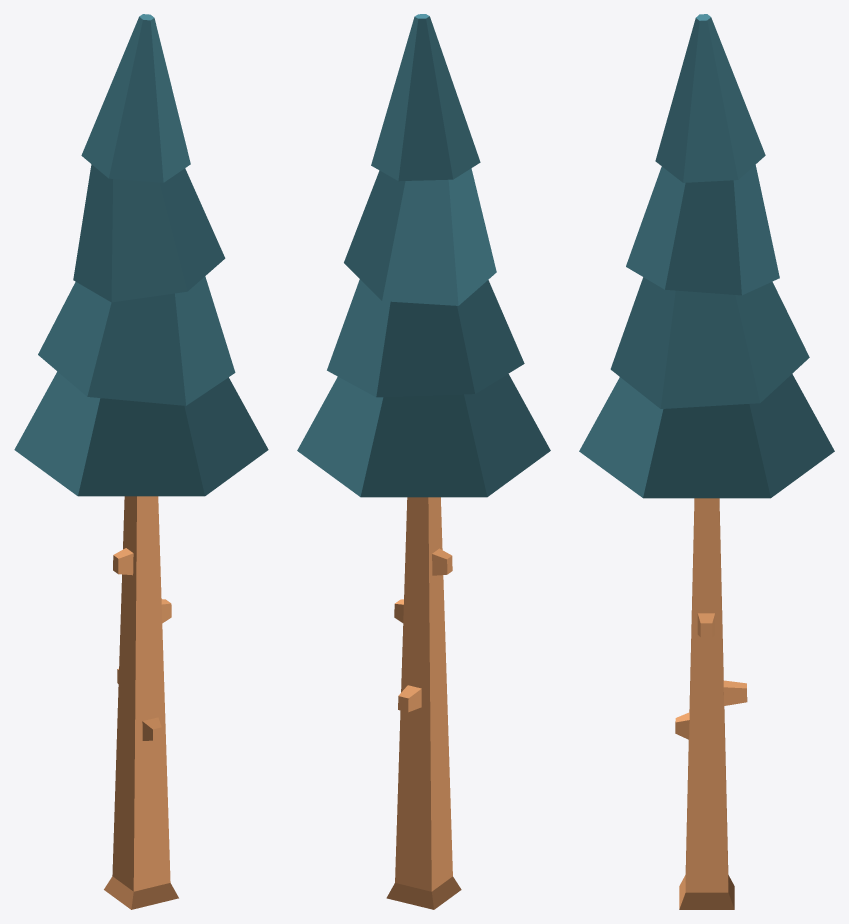
File: tree_pine_tall_detailed.obj
The picture shows the model from 3 angles, left to right: view 1: azimuth 30°, elevation 25°; view 2: azimuth 150°, elevation 25°; view 3: azimuth 270°, elevation 25°; orthographic projection.
Visible parts, largest first — view 1: tree_pine_tall_detailed; view 2: tree_pine_tall_detailed; view 3: tree_pine_tall_detailed.
Part boxes in pixels (x1,y1,x2,y2): tree_pine_tall_detailed: (14, 14, 268, 909); tree_pine_tall_detailed: (297, 14, 550, 909); tree_pine_tall_detailed: (579, 14, 834, 909).
Size of the model in its own units: 4.8 by 21.12 by 5.55.
